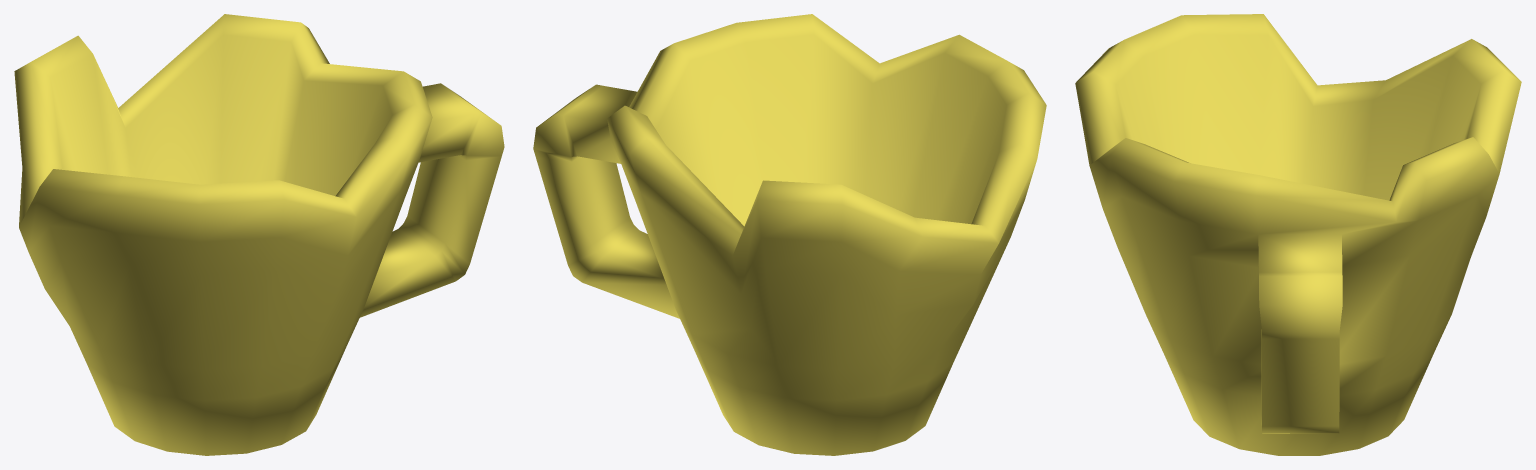
Rendered from Canecas.fbx.
3 renders of one model, left to right at view 1: azimuth 30°, elevation 25°; view 2: azimuth 150°, elevation 25°; view 3: azimuth 270°, elevation 25°, orthographic. The views are drawn at different scales.
Visible parts, largest first — view 1: 3; view 2: 3; view 3: 3.
Boxes of the visible parts, left/top/right/bottom form: 3: left=14, top=14, right=504, bottom=455; 3: left=533, top=14, right=1046, bottom=455; 3: left=1075, top=14, right=1521, bottom=455.
Bounding box in the file's own units: 3.08 × 2.47 × 1.97.
